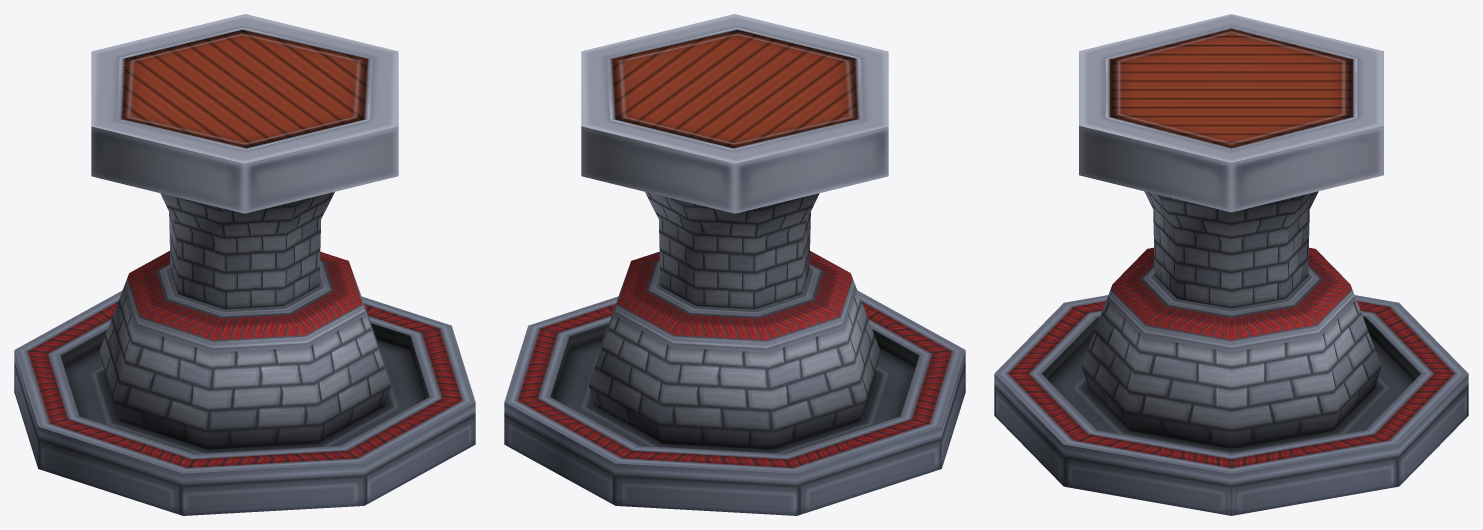
Rendered from CannonTower_Level1.FBX.
3 renders of one model, left to right at view 1: azimuth 30°, elevation 25°; view 2: azimuth 150°, elevation 25°; view 3: azimuth 270°, elevation 25°, orthographic.
Parts seen in each view (by area): view 1: CannonTower_Level1; view 2: CannonTower_Level1; view 3: CannonTower_Level1.
Boxes of the visible parts, x1=… form: CannonTower_Level1: x1=14, y1=14, x2=475, y2=515; CannonTower_Level1: x1=504, y1=14, x2=965, y2=515; CannonTower_Level1: x1=994, y1=14, x2=1468, y2=515.
Bounding box in the file's own units: 55.48 × 42.24 × 55.48.
